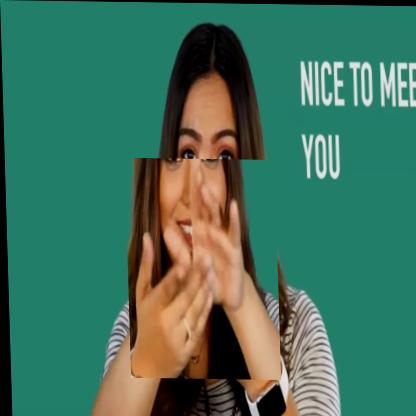NiceToMeetYou: (124, 157, 279, 379)
